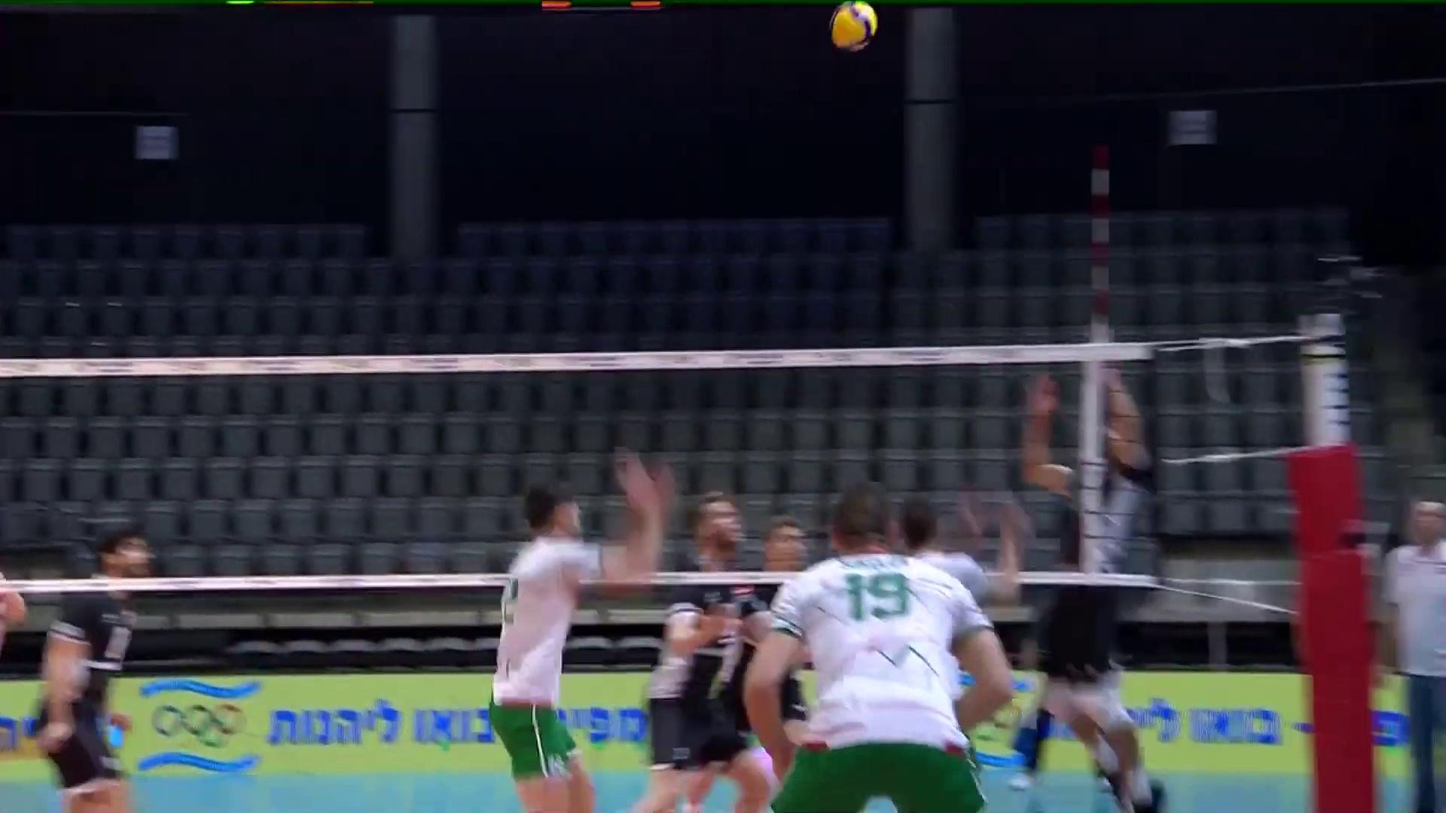ball: (823, 0, 884, 55)
